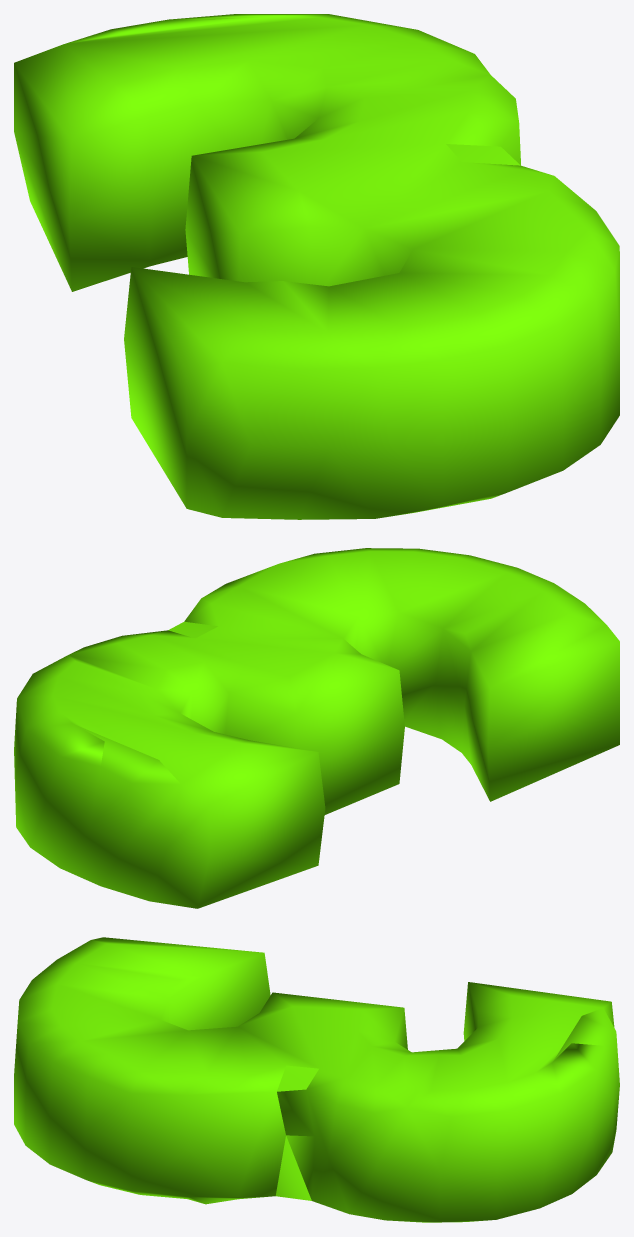
Rendered from ToyObject_210.fbx.
3 views of the same model, one above another, from view 1: azimuth 30°, elevation 25°; view 2: azimuth 150°, elevation 25°; view 3: azimuth 270°, elevation 25° (orthographic). The views are drawn at different scales.
Parts seen in each view (by area): view 1: Object.005; view 2: Object.005; view 3: Object.005.
Boxes of the visible parts, <box> form: Object.005: <box>14,14,619,519</box>; Object.005: <box>14,548,619,908</box>; Object.005: <box>14,937,619,1222</box>.
Size of the model in its own units: 0.1186 by 0.0386 by 0.1634.
